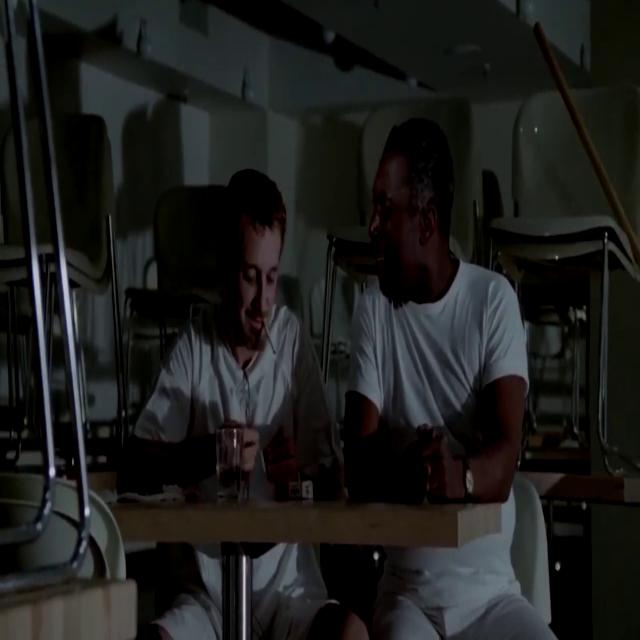Smooking: (257, 307, 284, 366)
